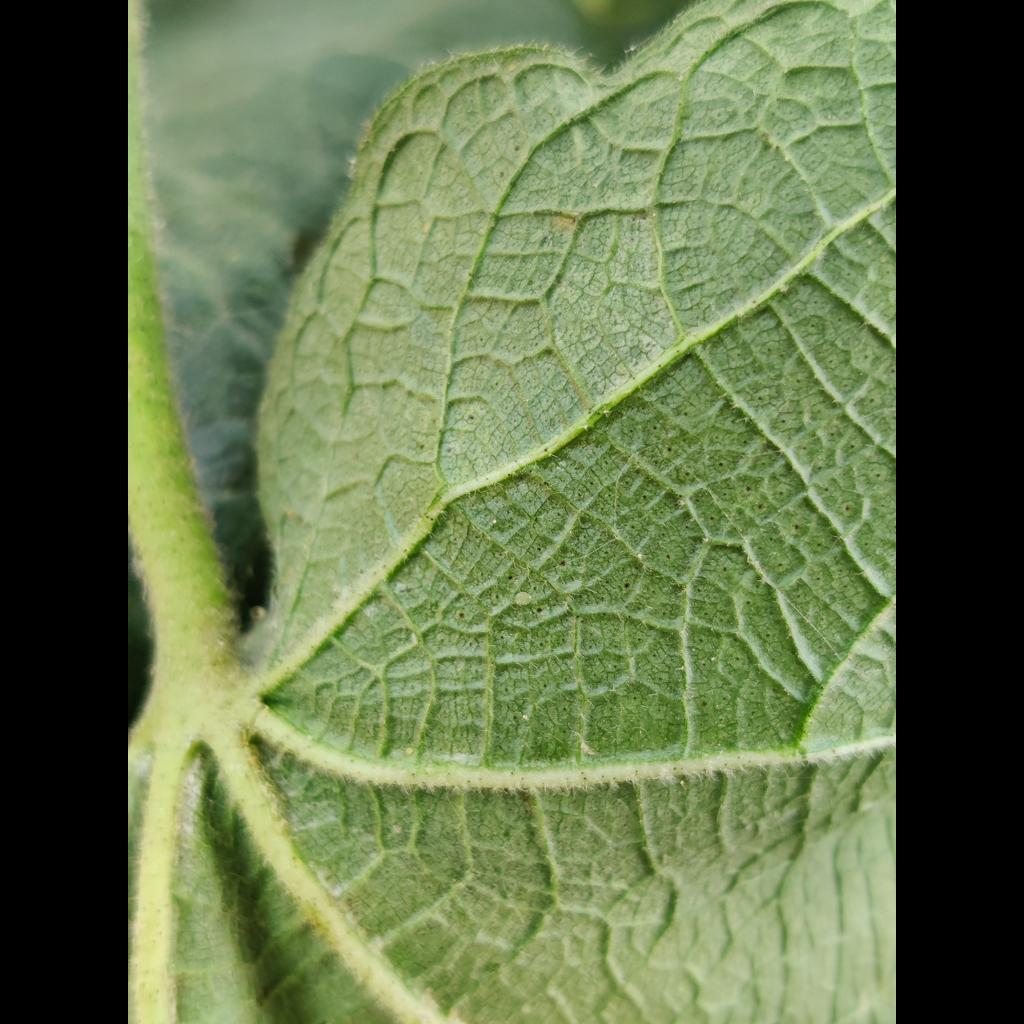nymph: (511, 591, 533, 606), (392, 823, 402, 835), (405, 749, 414, 755)
